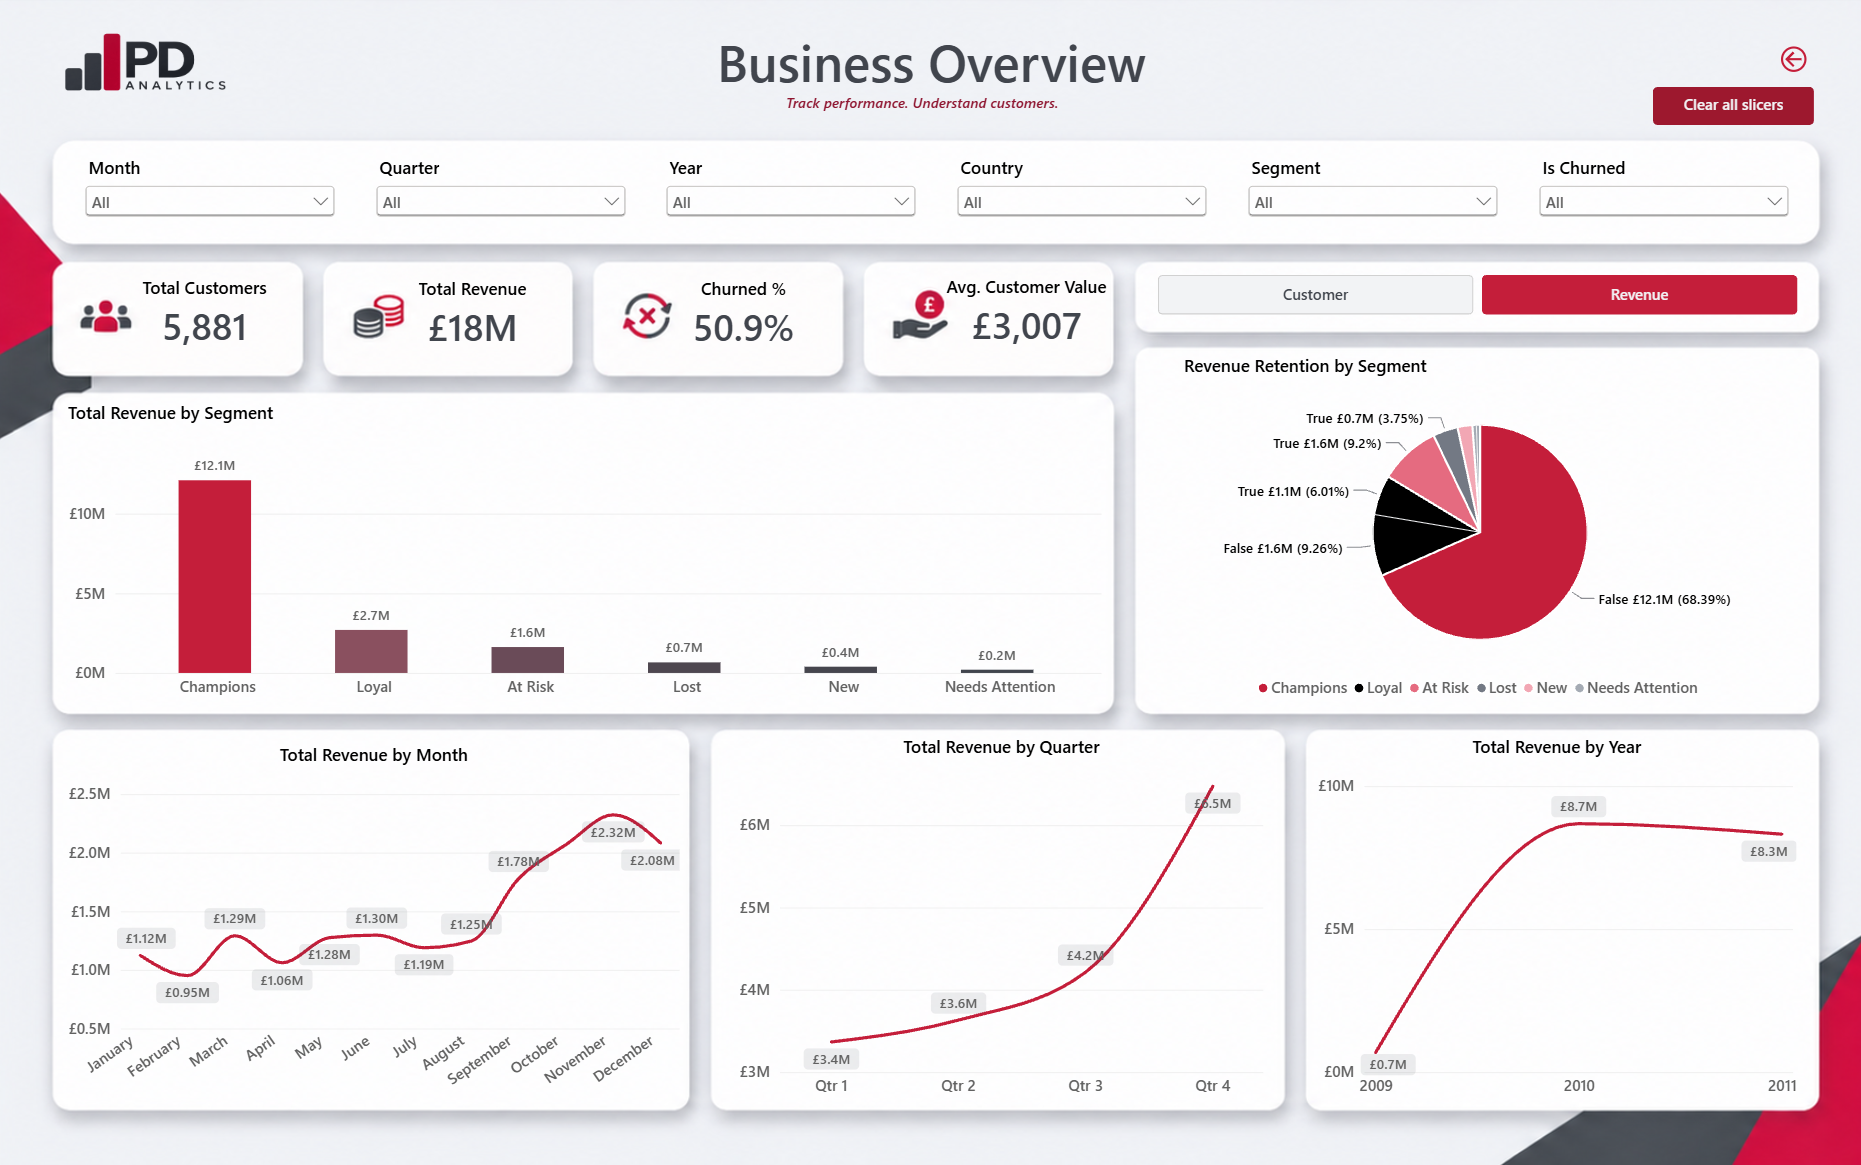

The dashboard page shown, as its layout file describes it:
{"tool":"powerbi","page":{"name":"Overview","canvas":[1750,1100],"ordinal":1},"visuals":[{"type":"cardVisual","fields":{"Data":["Retail._Churn %"]},"box":[591.1,251.1,215.8,94.2],"z":0},{"type":"columnChart","title":"Total Revenue by Segment","fields":{"Category":["Retail.Segment"],"Y":["Retail._Total Revenue"]},"box":[48.9,366.6,1002.2,313.3],"z":0,"group":"g1"},{"type":"cardVisual","fields":{"Data":["Retail._Total Customers"]},"box":[115.6,262.2,155.8,73.2],"z":1000},{"type":"pieChart","title":"Revenue Retention by Segment","fields":{"Category":["Retail.Segment"],"Series":["Retail.IsChurned"],"Y":["Retail._Total Revenue"]},"box":[1096.7,322.2,587.8,357.8],"z":1000,"group":"g1"},{"type":"cardVisual","fields":{"Data":["Retail._Average Customer Value"]},"box":[856.7,250,215.8,94.2],"z":2000},{"type":"lineChart","title":"Total Revenue by Month","fields":{"Category":["Retail.InvoiceDate.Variation.Date Hierarchy.Month"],"Y":["Retail._Total Revenue"]},"box":[49,687,606,368],"z":2000,"group":"g1"},{"type":"cardVisual","fields":{"Data":["Retail._Total Revenue"]},"box":[336.7,251.1,215.8,94.2],"z":3000},{"type":"lineChart","title":"Total Revenue by Quarter","fields":{"Category":["Retail.InvoiceDate.Variation.Date Hierarchy.Quarter"],"Y":["Retail._Total Revenue"]},"box":[678.9,680,524.4,374.4],"z":3000,"group":"g1"},{"type":"slicer","fields":{"Values":["Retail.InvoiceDate.Variation.Date Hierarchy.Month"]},"box":[75.8,149.9,244,68],"z":4000},{"type":"lineChart","title":"Total Revenue by Year","fields":{"Category":["Retail.InvoiceDate.Variation.Date Hierarchy.Year"],"Y":["Retail._Total Revenue"]},"box":[1221.1,680,482.2,374.4],"z":4000,"group":"g1"},{"type":"slicer","fields":{"Values":["Retail.InvoiceDate.Variation.Date Hierarchy.Quarter"]},"box":[348.7,149.9,244,68],"z":5000},{"type":"slicer","fields":{"Values":["Retail.InvoiceDate.Variation.Date Hierarchy.Year"]},"box":[621.6,149.9,244,68],"z":6000},{"type":"slicer","fields":{"Values":["Retail.Country"]},"box":[894.6,149.9,244,68],"z":7000},{"type":"slicer","fields":{"Values":["Retail.Segmentation"]},"box":[1167.5,149.9,244,68],"z":8000},{"type":"slicer","fields":{"Values":["Retail.IsChurned"]},"box":[1440.5,149.9,244,68],"z":9000},{"type":"group","id":"g1","title":"Revenue","box":[48.9,322.2,1654.4,732.8],"z":11000},{"type":"bookmarkNavigator","box":[1088,262,600,37],"z":12000},{"type":"textbox","box":[670,28.9,410,68.9],"z":13000},{"type":"actionButton","box":[1642.2,41.1,84.4,35.6],"z":14000},{"type":"actionButton","box":[1552.2,85.6,151.1,35.6],"z":15000},{"type":"image","box":[36.7,23.3,201.1,74.4],"z":16000},{"type":"textbox","box":[738.9,90,273.3,31.1],"z":17000}]}

Visuals, with their boxes in screenshot pixels (x1, y1, x2, y2), scaled from the page's 1750x1100 canvas onto the 1861x1165 screenshot:
cardVisual - Retail._Churn %: crop(629, 266, 858, 366)
"Total Revenue by Segment" columnChart: crop(52, 388, 1118, 720)
cardVisual - Retail._Total Customers: crop(123, 278, 289, 355)
"Revenue Retention by Segment" pieChart: crop(1166, 341, 1791, 720)
cardVisual - Retail._Average Customer Value: crop(911, 265, 1141, 365)
"Total Revenue by Month" lineChart: crop(52, 728, 697, 1117)
cardVisual - Retail._Total Revenue: crop(358, 266, 588, 366)
"Total Revenue by Quarter" lineChart: crop(722, 720, 1280, 1117)
slicer - Retail.InvoiceDate.Variation.Date Hierarchy.Month: crop(81, 159, 340, 231)
"Total Revenue by Year" lineChart: crop(1299, 720, 1811, 1117)
slicer - Retail.InvoiceDate.Variation.Date Hierarchy.Quarter: crop(371, 159, 630, 231)
slicer - Retail.InvoiceDate.Variation.Date Hierarchy.Year: crop(661, 159, 921, 231)
slicer - Retail.Country: crop(951, 159, 1211, 231)
slicer - Retail.Segmentation: crop(1242, 159, 1501, 231)
slicer - Retail.IsChurned: crop(1532, 159, 1791, 231)
"Revenue" group: crop(52, 341, 1811, 1117)
bookmarkNavigator: crop(1157, 277, 1795, 317)
textbox: crop(712, 31, 1149, 104)
actionButton: crop(1746, 44, 1836, 81)
actionButton: crop(1651, 91, 1811, 128)
image: crop(39, 25, 253, 103)
textbox: crop(786, 95, 1076, 128)
